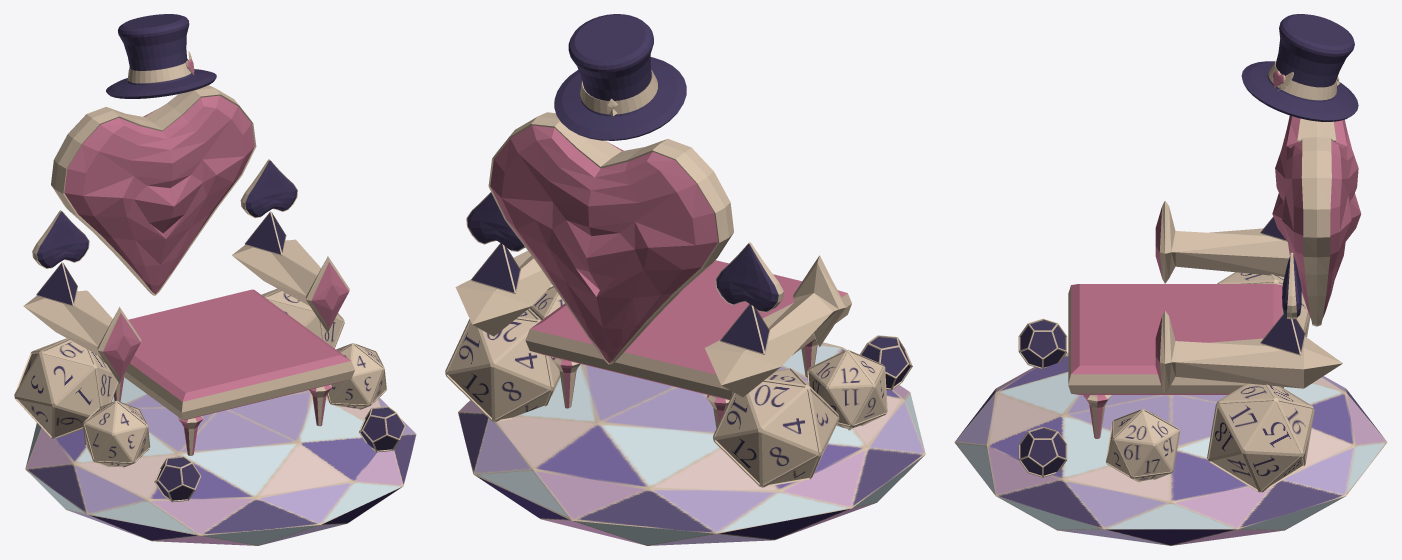
The model's file is goal.obj.
3 views of the same model, side by side, from view 1: azimuth 30°, elevation 25°; view 2: azimuth 150°, elevation 25°; view 3: azimuth 270°, elevation 25° (orthographic). The views are drawn at different scales.
Parts seen in each view (by area): view 1: 立方体.004; view 2: 立方体.004; view 3: 立方体.004.
Boxes of the visible parts, x1,y1,x2,y2 form: 立方体.004: (14,14,416,545); 立方体.004: (445,14,925,545); 立方体.004: (954,14,1387,545).
Bounding box in the file's own units: 4.58 × 5.76 × 4.82.
Materials: 1 (1 with a texture image).
